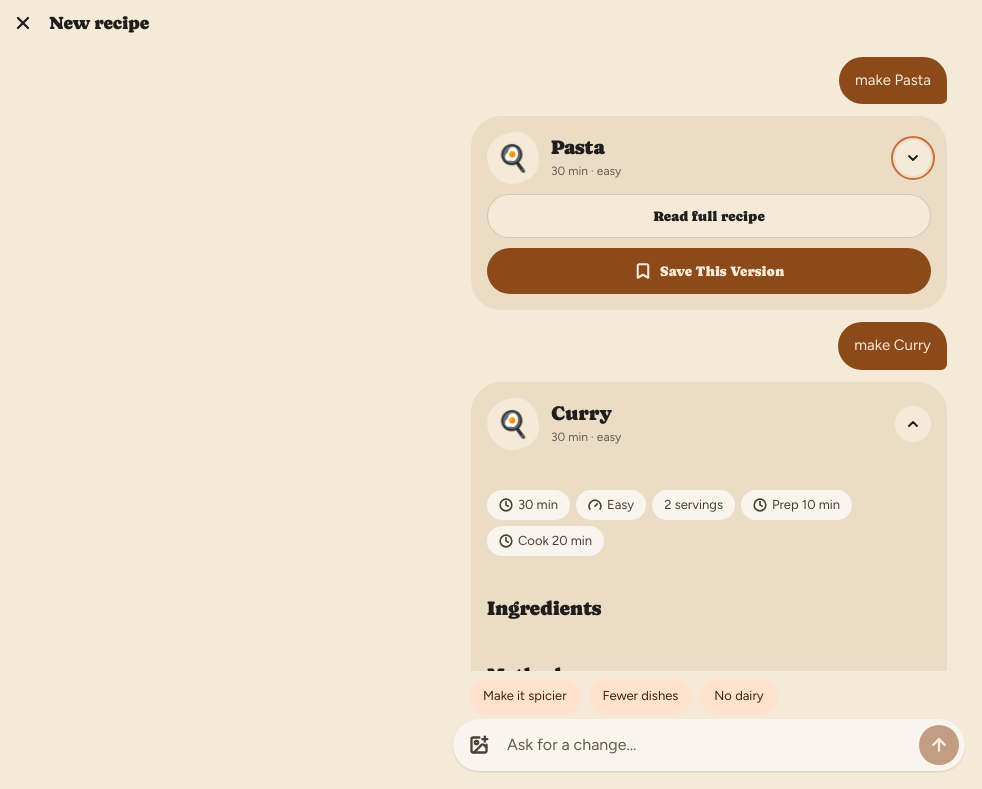
RecipeChatPage cards › the toggle and Read full recipe open and close a card from the keyboard
This screenshot has width=982, height=789.
Press Enter
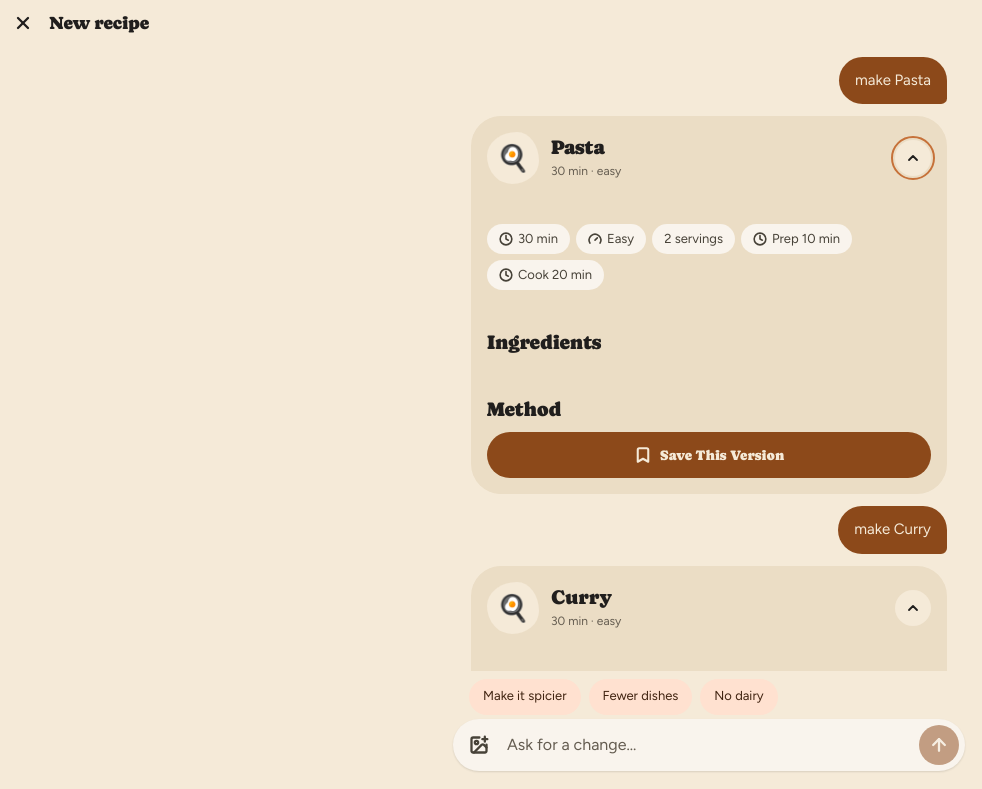
Click the 2nd button named "Hide full recipe" at (913, 608), box [895, 590, 931, 626]
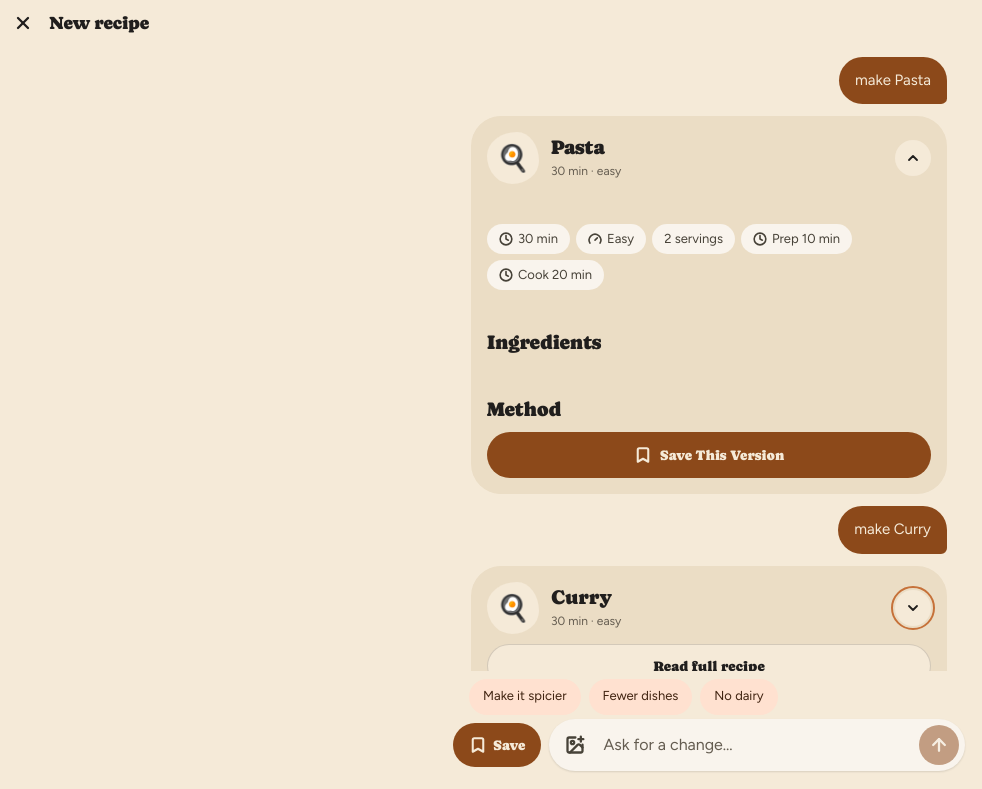
Click the button "Read full recipe" at (709, 666), box [487, 644, 931, 688]
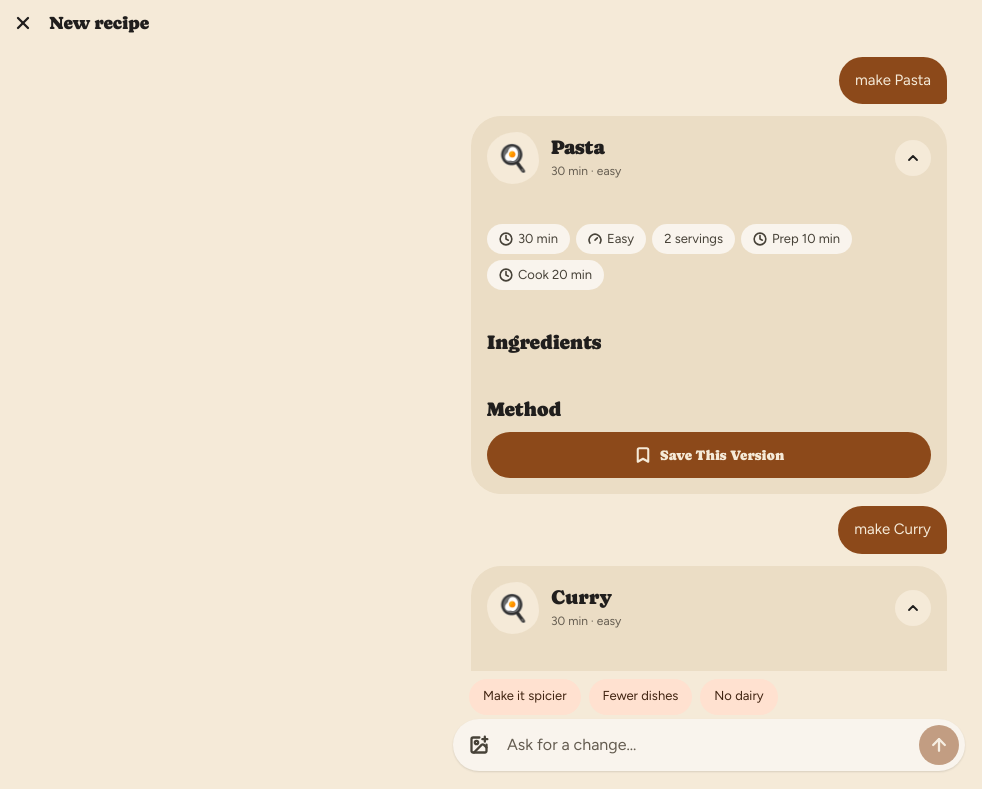
Now the 2nd button named "Hide full recipe" is expanded, box [895, 590, 931, 626]
